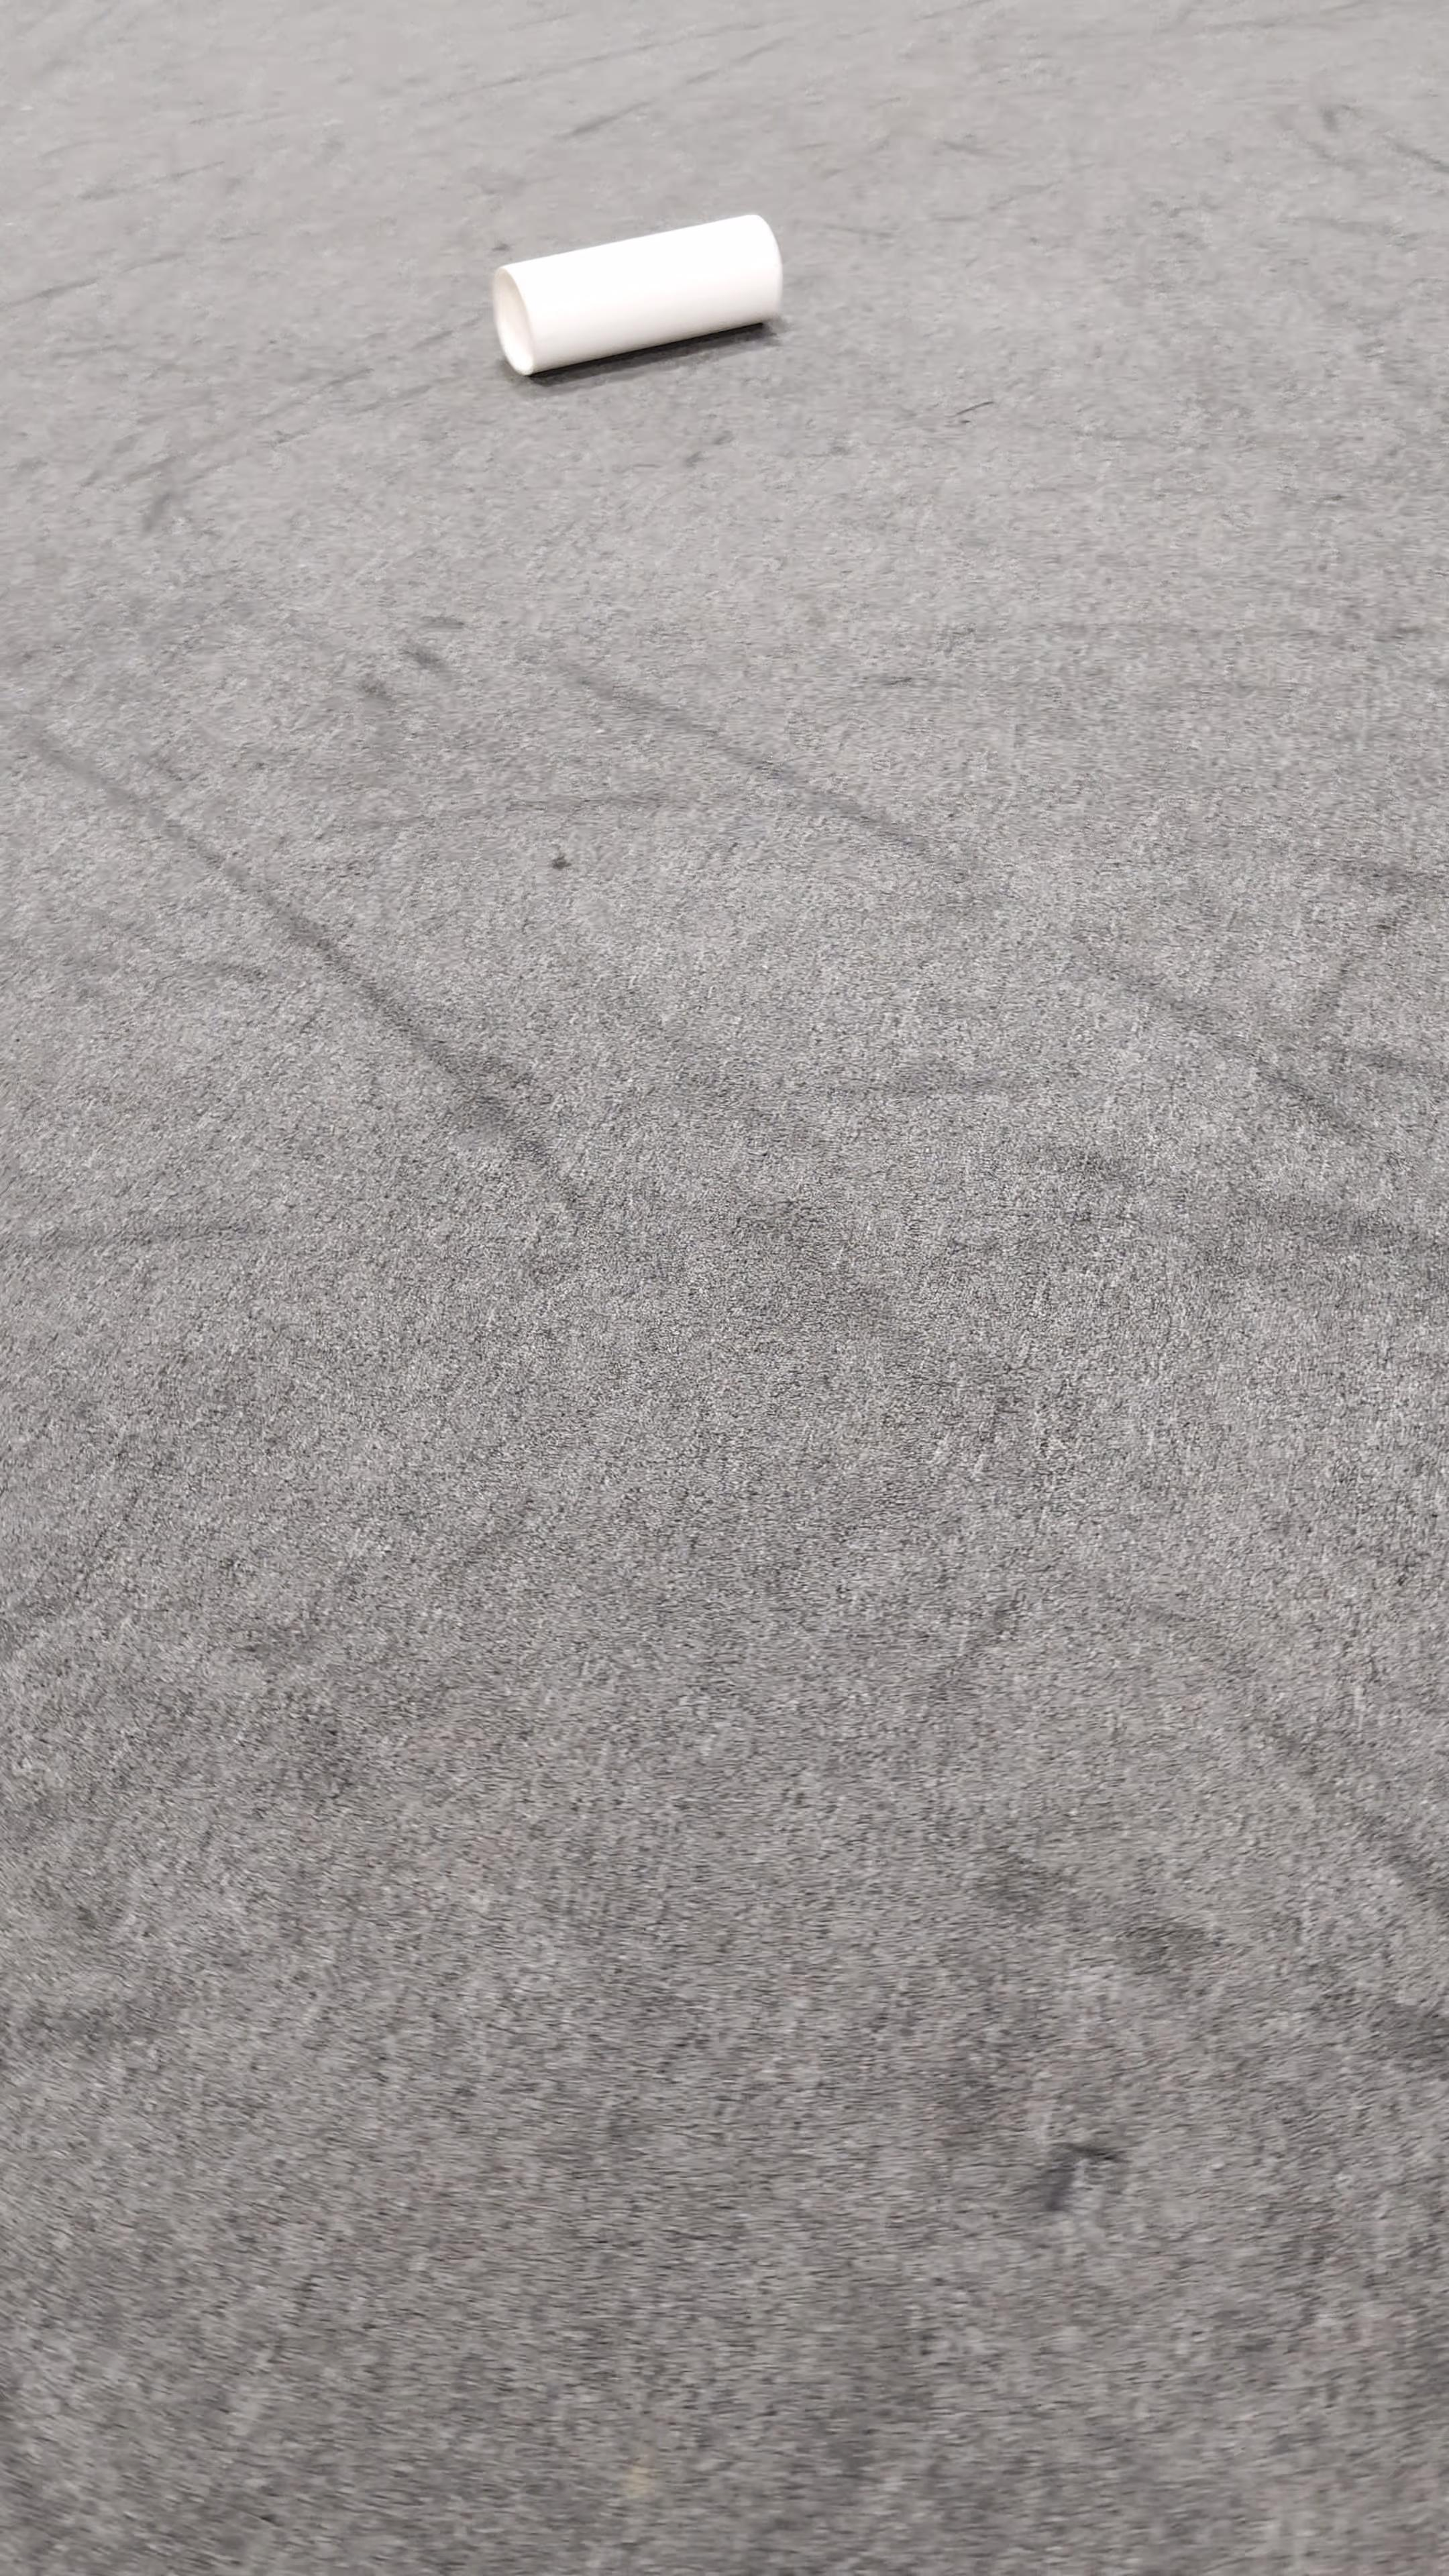coral: (495, 212, 782, 375)
